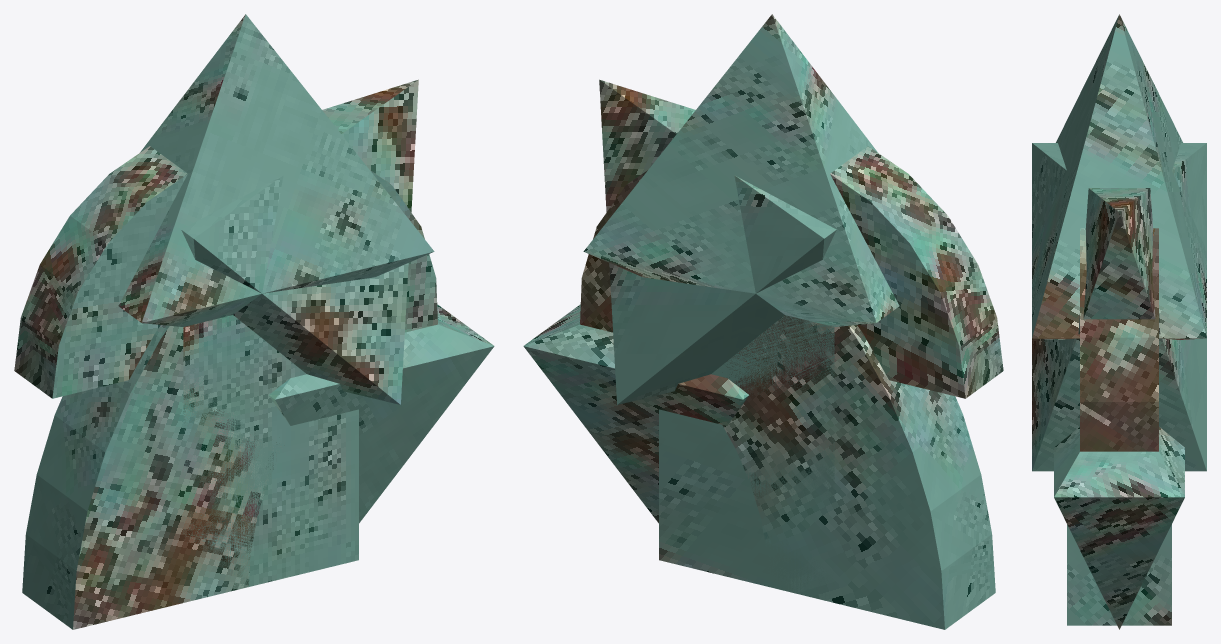
The model's file is ArrowButtons.glb.
The picture shows the model from 3 angles, left to right: view 1: azimuth 30°, elevation 25°; view 2: azimuth 150°, elevation 25°; view 3: azimuth 270°, elevation 25°; orthographic projection. The views are drawn at different scales.
Visible parts, largest first — view 1: Arrow_Curve, Arrow_Straight, Arrow_Rotate; view 2: Arrow_Curve, Arrow_Straight, Arrow_Rotate; view 3: Arrow_Straight, Arrow_Rotate, Arrow_Curve.
Boxes of the visible parts, box(x1,y1,x2,y2) form: Arrow_Curve: box(22, 79, 418, 629); Arrow_Straight: box(118, 14, 434, 592); Arrow_Rotate: box(14, 146, 494, 523); Arrow_Curve: box(599, 79, 995, 629); Arrow_Straight: box(583, 14, 899, 598); Arrow_Rotate: box(523, 146, 1003, 523); Arrow_Straight: box(1032, 14, 1206, 625); Arrow_Rotate: box(1054, 228, 1184, 629); Arrow_Curve: box(1032, 143, 1206, 471).
Size of the model in its own units: 1.47 by 1.79 by 0.5.
1 material, 1 textured.
